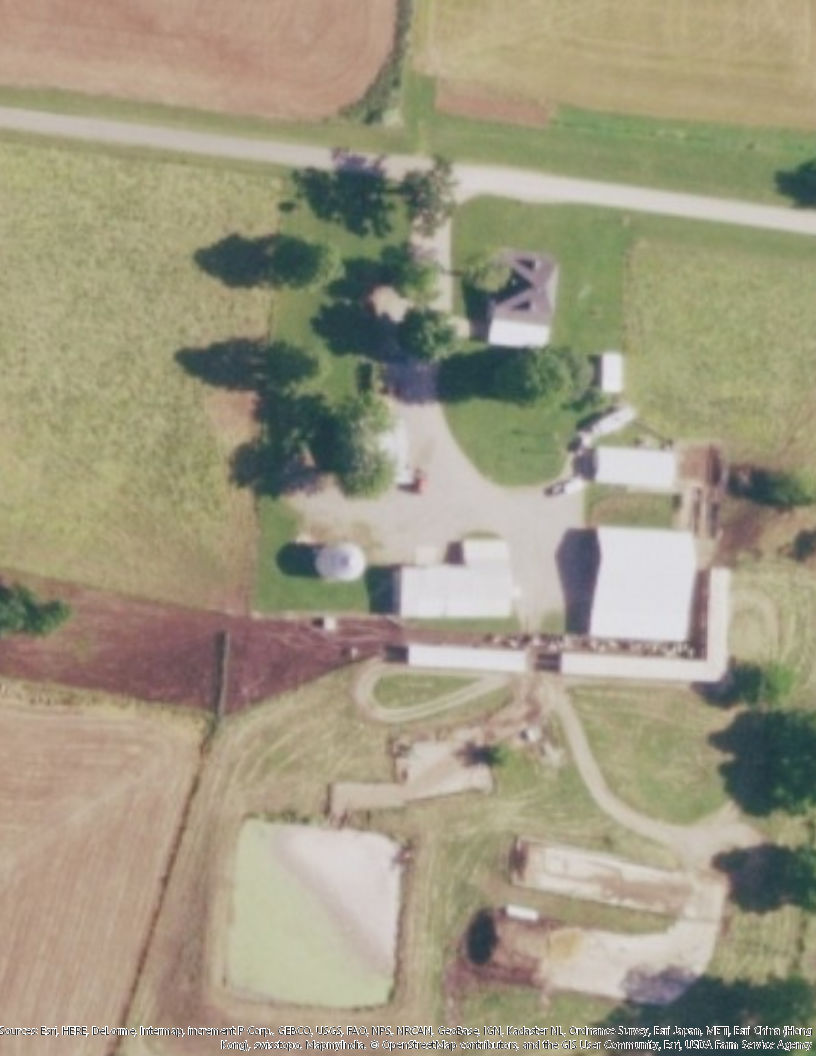cafo: (558, 516, 750, 698), (386, 532, 540, 674), (588, 436, 707, 505)
